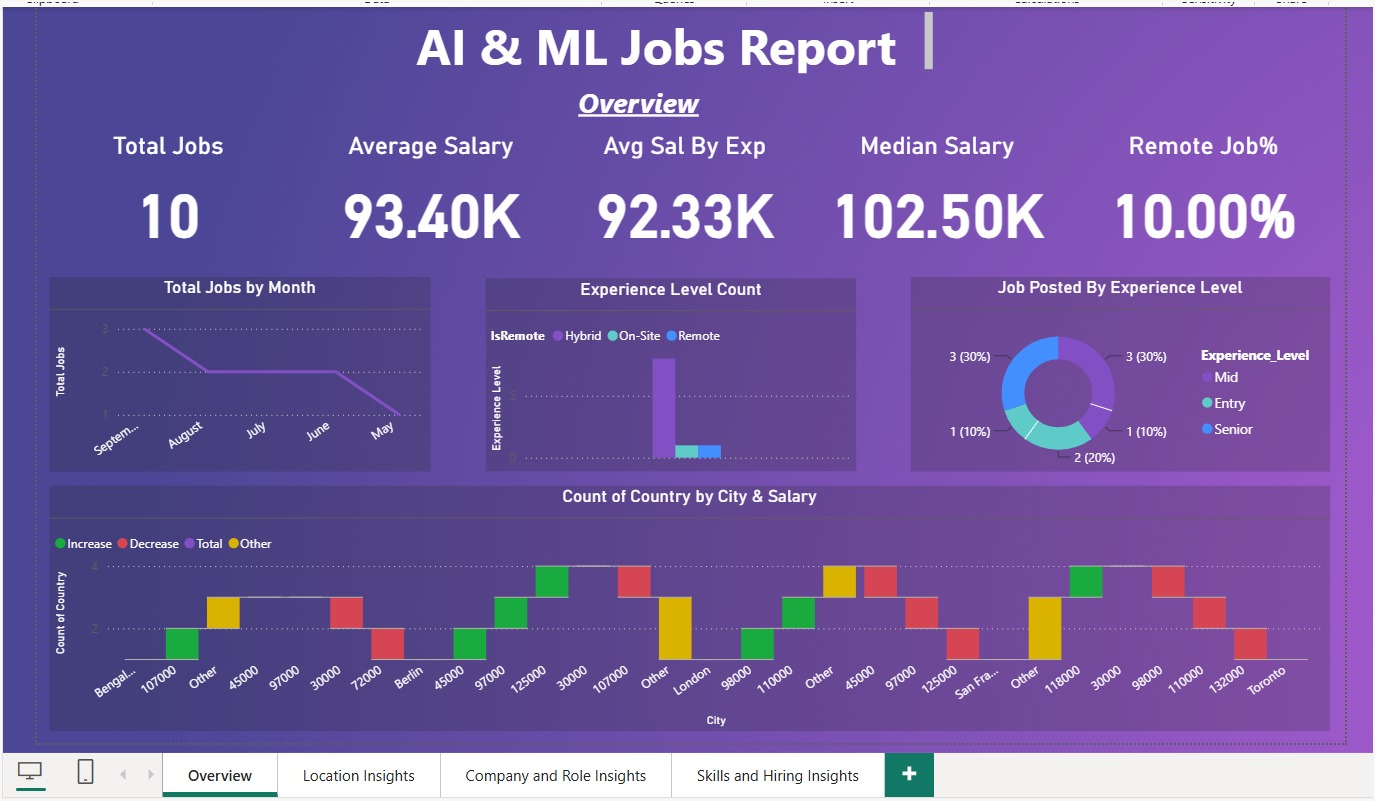

What the dashboard file says about the page in this screenshot:
{"tool":"powerbi","page":{"name":"Overview","canvas":[1280,720],"ordinal":0},"visuals":[{"type":"textbox","box":[338.8,0,542.5,70],"z":0},{"type":"card","title":"Average Salary","fields":{"Values":["Fact_Jobs.AvgSalary"]},"box":[261.2,121.2,247.5,122.5],"z":1000},{"type":"card","title":"Total Jobs","fields":{"Values":["Fact_Jobs.TotalJobs"]},"box":[12.5,121.2,232.5,122.5],"z":2000},{"type":"card","title":"Median Salary","fields":{"Values":["Fact_Jobs.MedianSalary"]},"box":[757.5,121.2,247.5,122.5],"z":3000},{"type":"card","title":"Remote Job%","fields":{"Values":["Fact_Jobs.RemoteJob%"]},"box":[1017.5,121.2,247.5,122.5],"z":4000},{"type":"card","title":"Avg Sal By Exp","fields":{"Values":["Fact_Jobs.AvgSalaryByExperience"]},"box":[510,121.2,247.5,122.5],"z":5000},{"type":"lineChart","title":"Total Jobs by Month","fields":{"Y":["Fact_Jobs.TotalJobs"],"Category":["Dim_Date.MonthName"]},"box":[12.5,263.8,372.5,190],"z":6000},{"type":"clusteredColumnChart","title":"Experience Level Count","fields":{"Y":["CountNonNull(Fact_Jobs.Experience_Level)"],"Series":["Fact_Jobs.IsRemote"]},"box":[438.8,265,362.5,188.8],"z":7000},{"type":"donutChart","title":"Job Posted By Experience Level","fields":{"Series":["Fact_Jobs.IsRemote"],"Category":["Fact_Jobs.Experience_Level"],"Y":["Fact_Jobs.TotalJobs"]},"box":[855,263.8,410,190],"z":8000},{"type":"waterfallChart","title":"Count of Country by City & Salary","fields":{"Category":["Dim_Locations.City"],"Breakdown":["Fact_Jobs.Salary_USD"],"Y":["CountNonNull(Dim_Locations.Country)"]},"box":[12.5,468.8,1252.5,240],"z":9000},{"type":"textbox","box":[407.5,70,362.5,51.2],"z":10000}]}

Visuals, with their boxes on the page's 1280x720 design canvas (x1, y1, x2, y2). These are canvas units, not pixel positions in the 1375x801 screenshot, which may show the page scaled, cropped or inside an application window:
textbox: 339/0/881/70
"Average Salary" card: 261/121/509/244
"Total Jobs" card: 12/121/245/244
"Median Salary" card: 758/121/1005/244
"Remote Job%" card: 1018/121/1265/244
"Avg Sal By Exp" card: 510/121/758/244
"Total Jobs by Month" lineChart: 12/264/385/454
"Experience Level Count" clusteredColumnChart: 439/265/801/454
"Job Posted By Experience Level" donutChart: 855/264/1265/454
"Count of Country by City & Salary" waterfallChart: 12/469/1265/709
textbox: 408/70/770/121
